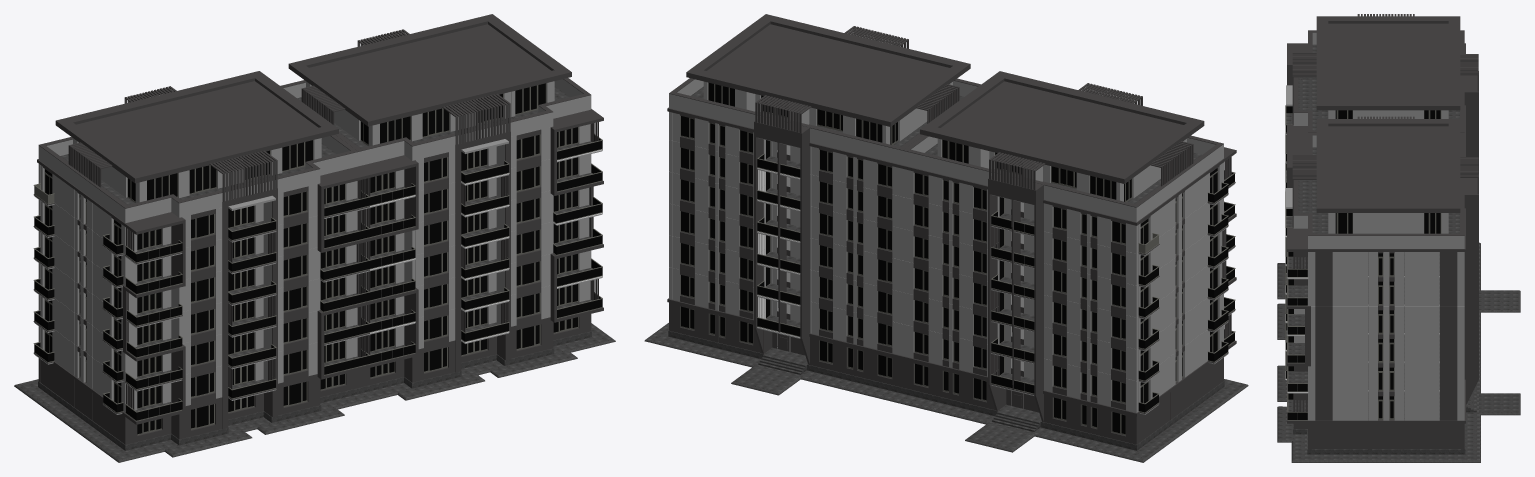
File: ApartmentBuilding.fbx
3 renders of one model, left to right at view 1: azimuth 30°, elevation 25°; view 2: azimuth 150°, elevation 25°; view 3: azimuth 270°, elevation 25°, orthographic. The views are drawn at different scales.
Parts seen in each view (by area): view 1: Apartment Buildings02.058, Apartment Buildings02.080, Apartment Buildings02.083, Apartment Buildings02.072, Apartment Buildings02.069, Apartment Buildings02.064, Apartment Buildings02.062, Apartment Buildings02.082, Apartment Buildings02.071, Apartment Buildings02.084, Apartment Buildings02.047, Apartment Buildings02.073 (+35 smaller); view 2: Apartment Buildings02.058, Apartment Buildings02.080, Apartment Buildings02.069, Apartment Buildings02.072, Apartment Buildings02.083, Apartment Buildings02.071, Apartment Buildings02.082, Apartment Buildings02.079, Apartment Buildings02.086, Apartment Buildings02.075, Apartment Buildings02.047, Apartment Buildings02.050 (+33 smaller); view 3: Apartment Buildings02.069, Apartment Buildings02.083, Apartment Buildings02.072, Apartment Buildings02.076, Apartment Buildings02.082, Apartment Buildings02.071, Apartment Buildings02.068, Apartment Buildings02.047, Apartment Buildings02.073, Apartment Buildings02.075, Apartment Buildings02.058, Apartment Buildings02.039 (+22 smaller).
Boxes of the visible parts, x1=… form: Apartment Buildings02.058: x1=44, y1=83, x2=578, y2=435; Apartment Buildings02.080: x1=38, y1=164, x2=357, y2=412; Apartment Buildings02.083: x1=76, y1=81, x2=318, y2=171; Apartment Buildings02.072: x1=309, y1=24, x2=551, y2=114; Apartment Buildings02.069: x1=361, y1=124, x2=591, y2=349; Apartment Buildings02.064: x1=125, y1=192, x2=369, y2=420; Apartment Buildings02.062: x1=369, y1=135, x2=602, y2=363; Apartment Buildings02.082: x1=55, y1=71, x2=338, y2=183; Apartment Buildings02.071: x1=288, y1=14, x2=571, y2=126; Apartment Buildings02.084: x1=37, y1=159, x2=370, y2=424; Apartment Buildings02.047: x1=17, y1=324, x2=612, y2=459; Apartment Buildings02.073: x1=358, y1=109, x2=603, y2=367; Apartment Buildings02.058: x1=680, y1=82, x2=1217, y2=435; Apartment Buildings02.080: x1=903, y1=162, x2=1223, y2=412; Apartment Buildings02.069: x1=669, y1=112, x2=902, y2=355; Apartment Buildings02.072: x1=707, y1=24, x2=949, y2=114; Apartment Buildings02.083: x1=940, y1=81, x2=1183, y2=171; Apartment Buildings02.071: x1=686, y1=14, x2=970, y2=126; Apartment Buildings02.082: x1=920, y1=71, x2=1204, y2=183; Apartment Buildings02.079: x1=903, y1=357, x2=1223, y2=444; Apartment Buildings02.086: x1=988, y1=173, x2=1043, y2=421; Apartment Buildings02.075: x1=754, y1=116, x2=809, y2=364; Apartment Buildings02.047: x1=648, y1=323, x2=1244, y2=459; Apartment Buildings02.050: x1=903, y1=136, x2=1223, y2=222; Apartment Buildings02.069: x1=1294, y1=252, x2=1464, y2=420; Apartment Buildings02.083: x1=1328, y1=23, x2=1448, y2=101; Apartment Buildings02.072: x1=1328, y1=126, x2=1448, y2=203; Apartment Buildings02.076: x1=1315, y1=252, x2=1457, y2=420; Apartment Buildings02.082: x1=1316, y1=16, x2=1460, y2=110; Apartment Buildings02.071: x1=1316, y1=119, x2=1460, y2=212; Apartment Buildings02.068: x1=1293, y1=419, x2=1464, y2=449; Apartment Buildings02.047: x1=1279, y1=263, x2=1478, y2=460; Apartment Buildings02.073: x1=1287, y1=146, x2=1465, y2=423; Apartment Buildings02.075: x1=1464, y1=174, x2=1478, y2=404; Apartment Buildings02.058: x1=1335, y1=110, x2=1441, y2=419; Apartment Buildings02.039: x1=1293, y1=135, x2=1464, y2=248.
Bounding box in the file's own units: 5421 × 2780 × 2545.
